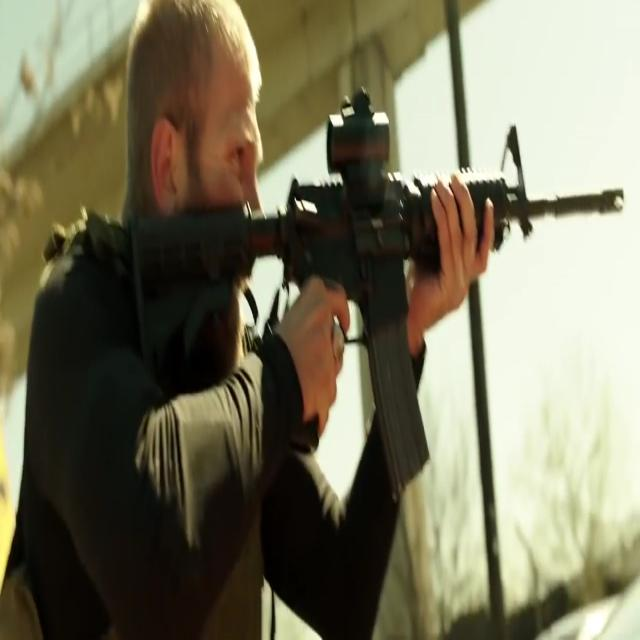Weapon: (104, 128, 568, 481)
